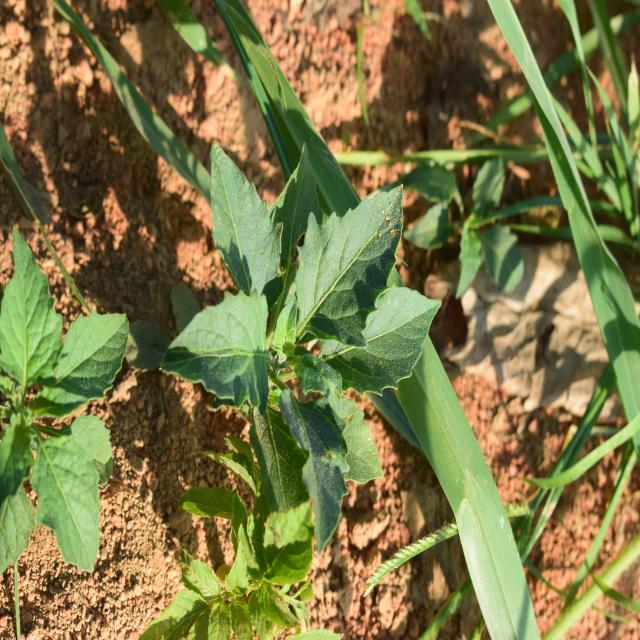Black_nightshade: (186, 156, 426, 498), (0, 262, 146, 578)
